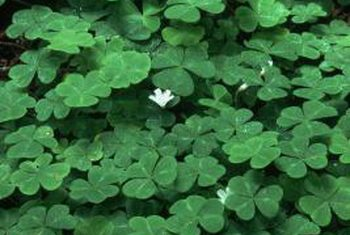oxalis: (12, 10, 350, 226)
